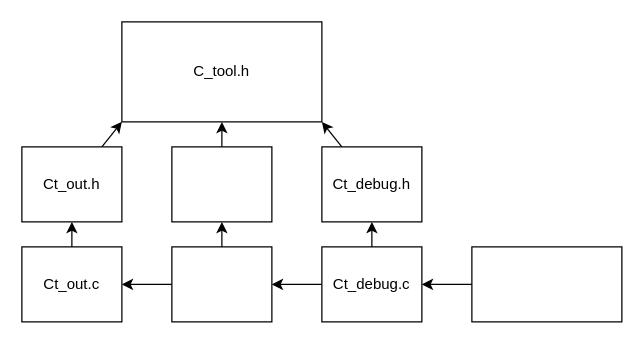
This 644x344 diagram has some shape labels left out. Here are the shapes that lost their labels. From the top down, the centre of each, then its label:
At point (221, 184): "Ct_flag.h".
At point (221, 284): "Ct_flag.c".
At point (546, 284): "utils.h".
